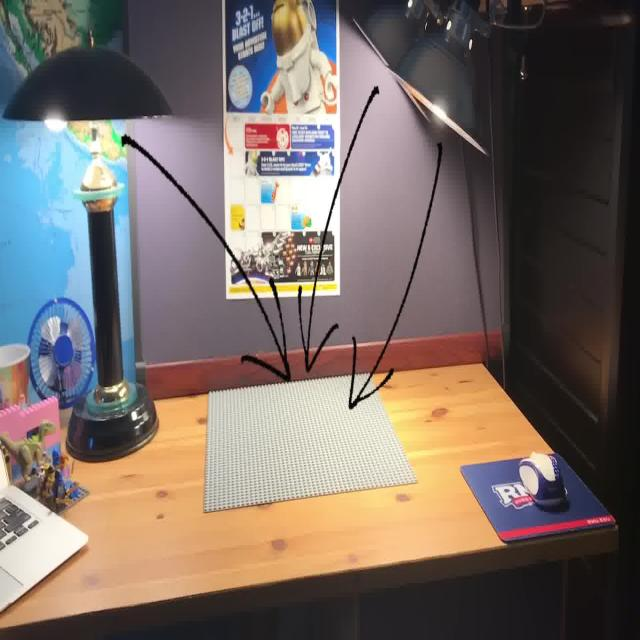brick: (1, 423, 55, 480)
figure: (206, 376, 413, 509)
